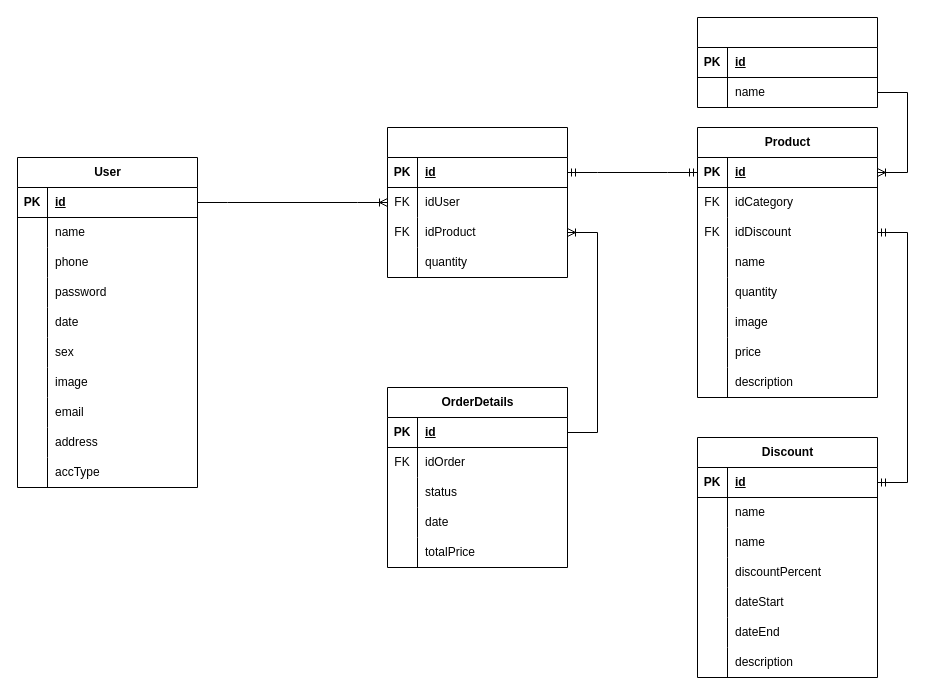
Some shapes in this 934 by 695 pixel diagram are drawn without their labels. The shapes that lost their labels are listed below. From the top down, each one's box as (x1, y1, x2, y2) in pixels, then its label:
(696, 16, 878, 108): Category
(386, 126, 568, 278): OrderItem
